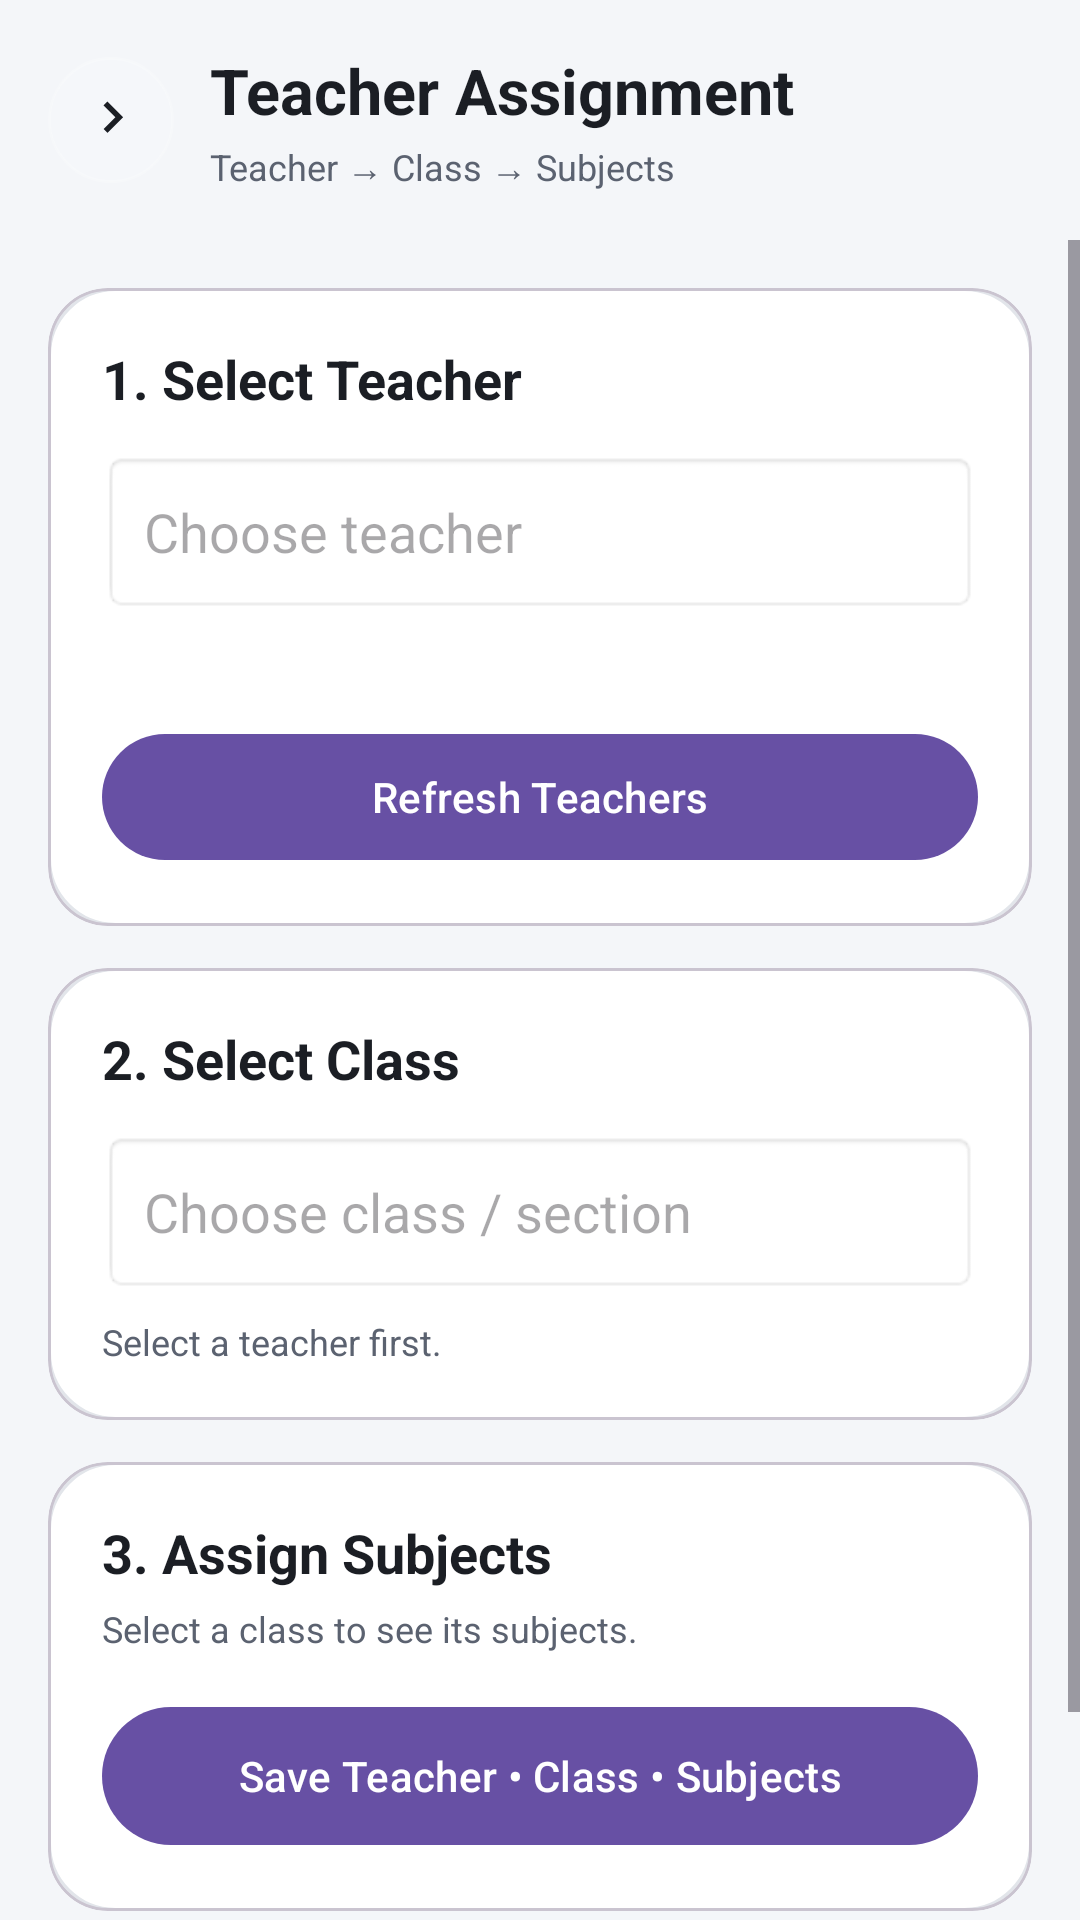

Named icons in this screenshot (1080px x 1920px) and their bounding boxes, (x1, y1, x2, y2):
arrow: (103, 101, 123, 133)
